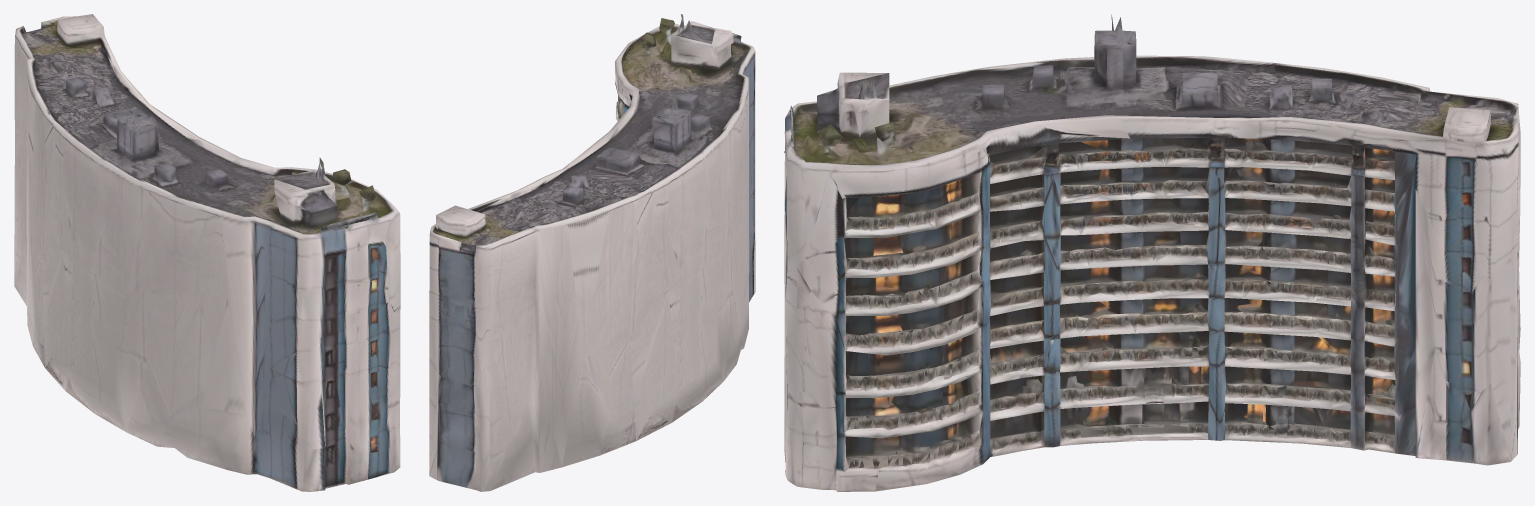
The model's file is curvedTerrace.glb.
3 views of the same model, side by side, from view 1: azimuth 30°, elevation 25°; view 2: azimuth 150°, elevation 25°; view 3: azimuth 270°, elevation 25° (orthographic). The views are drawn at different scales.
Parts seen in each view (by area): view 1: curvedTerrace; view 2: curvedTerrace; view 3: curvedTerrace.
Boxes of the visible parts, left/top/right/bottom form: curvedTerrace: left=14, top=14, right=400, bottom=491; curvedTerrace: left=429, top=14, right=755, bottom=491; curvedTerrace: left=784, top=14, right=1520, bottom=491.
Size of the model in its own units: 20.03 by 32 by 55.09.
Materials: 1 (1 with a texture image).
